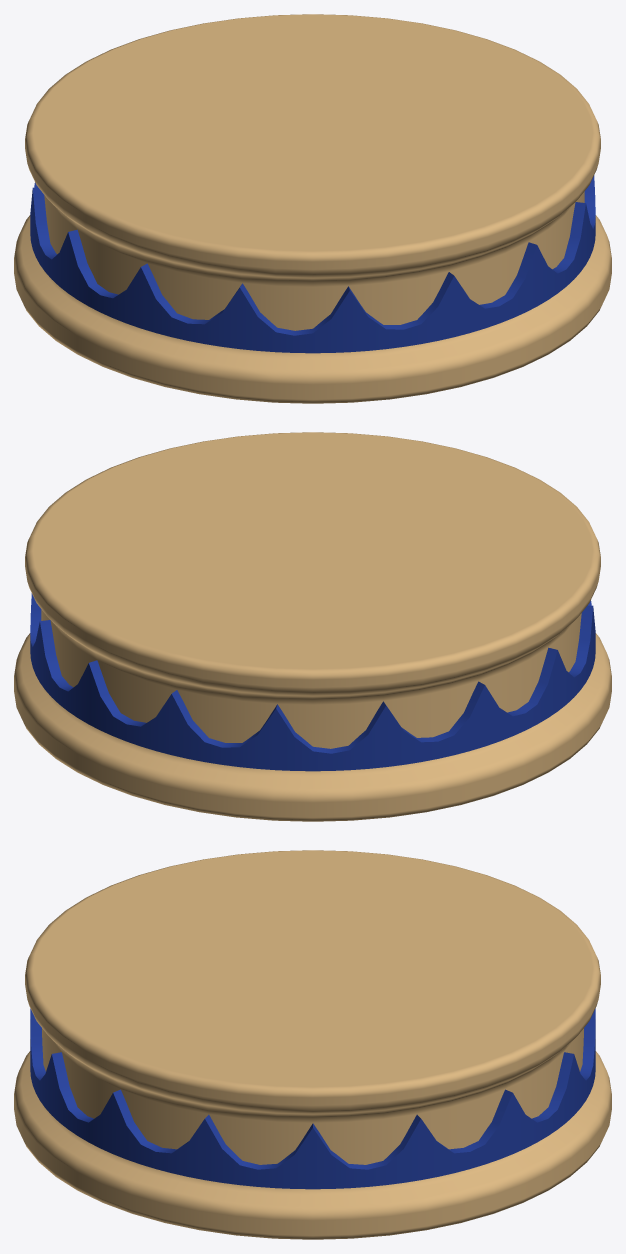
File: K_Pedestal.fbx
3 renders of one model, top to bottom at view 1: azimuth 30°, elevation 25°; view 2: azimuth 150°, elevation 25°; view 3: azimuth 270°, elevation 25°, orthographic.
Parts seen in each view (by area): view 1: K_Pedestal; view 2: K_Pedestal; view 3: K_Pedestal.
Part boxes in pixels (x1=…): K_Pedestal: x1=14, y1=14, x2=611, y2=403; K_Pedestal: x1=14, y1=432, x2=611, y2=821; K_Pedestal: x1=14, y1=850, x2=611, y2=1239.
Bounding box in the file's own units: 1.1 × 0.3 × 1.1.
